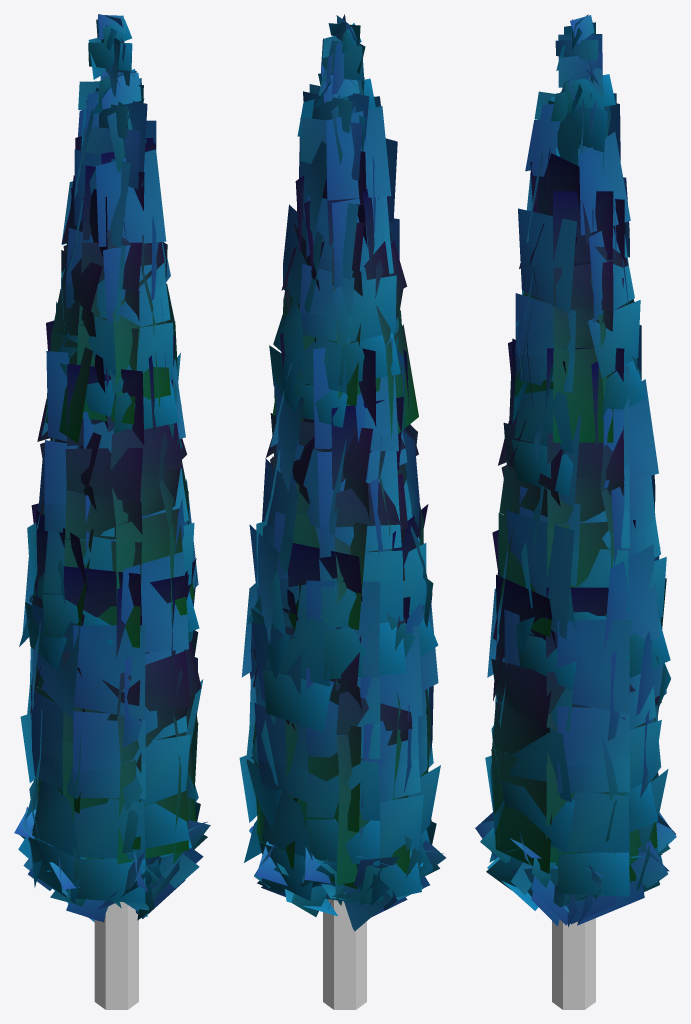
Rendered from cypress_tree.dae.
The picture shows the model from 3 angles, left to right: view 1: azimuth 30°, elevation 25°; view 2: azimuth 150°, elevation 25°; view 3: azimuth 270°, elevation 25°; orthographic projection.
Visible parts, largest first — view 1: cypress_tree_a650, Colmesh-1; view 2: cypress_tree_a650, Colmesh-1; view 3: cypress_tree_a650, Colmesh-1.
Boxes of the visible parts, x1,y1,x2,y2 form: cypress_tree_a650: (14, 14, 210, 922); Colmesh-1: (94, 902, 138, 1009); cypress_tree_a650: (239, 14, 445, 931); Colmesh-1: (323, 899, 366, 1009); cypress_tree_a650: (475, 14, 676, 927); Colmesh-1: (552, 918, 595, 1009).
Size of the model in its own units: 1.25 by 1.33 by 7.14.
